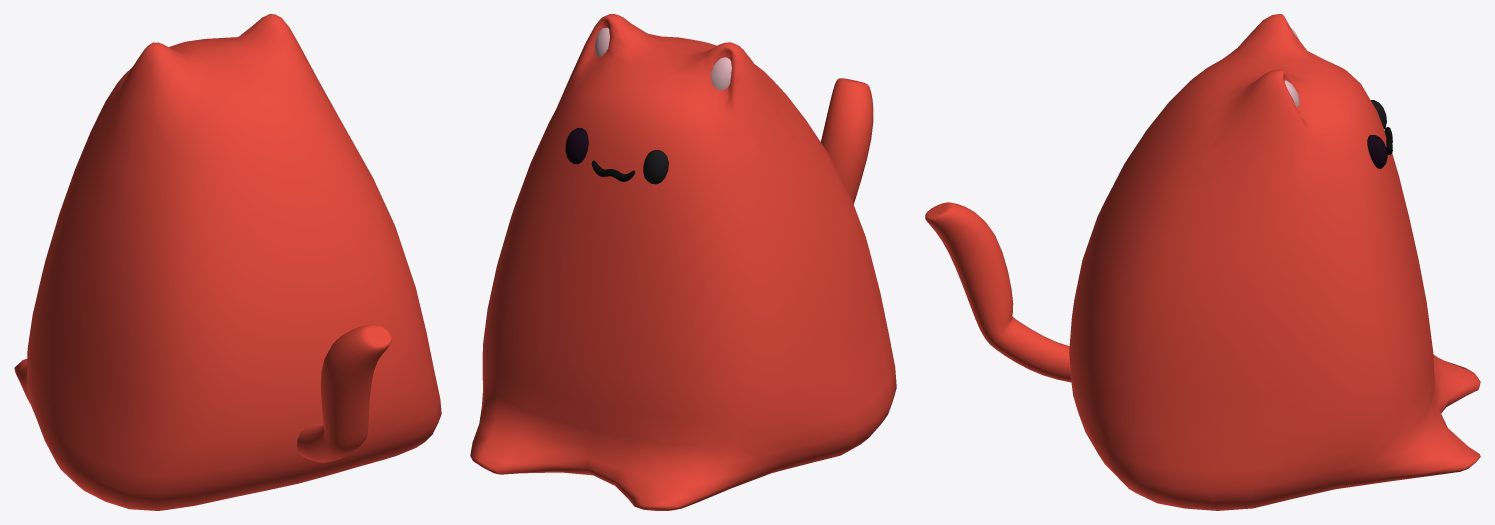
The model's file is cat_without_body.fbx.
The picture shows the model from 3 angles, left to right: view 1: azimuth 30°, elevation 25°; view 2: azimuth 150°, elevation 25°; view 3: azimuth 270°, elevation 25°; orthographic projection. The views are drawn at different scales.
Parts seen in each view (by area): view 1: head, tail; view 2: head, tail, eye1.001, eye, eye1; view 3: head, tail.
Part boxes in pixels (x1,y1,x2,y2): head: (14, 14, 441, 510); tail: (297, 324, 391, 462); head: (470, 14, 896, 510); tail: (821, 78, 873, 204); eye1.001: (595, 27, 731, 90); eye: (643, 150, 668, 184); eye1: (565, 128, 588, 164); head: (1069, 14, 1480, 510); tail: (925, 202, 1071, 382).
Size of the model in its own units: 317 by 357 by 447.
